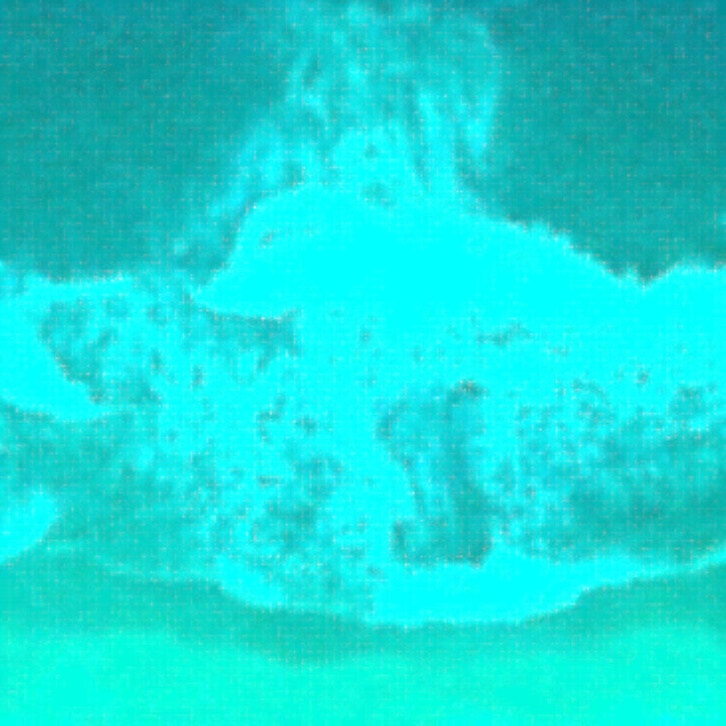rip_current: (275, 41, 527, 555)
